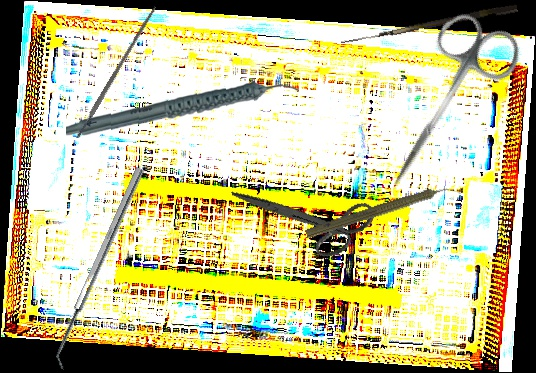Handpiece: (65, 74, 300, 146), (304, 177, 462, 245)
Hook Surgical: (341, 1, 518, 52)
Iris Scissors: (359, 2, 529, 211), (231, 155, 382, 279)
Scalpel Handle: (74, 5, 158, 139)
Spatula Surgical: (49, 166, 152, 371)
